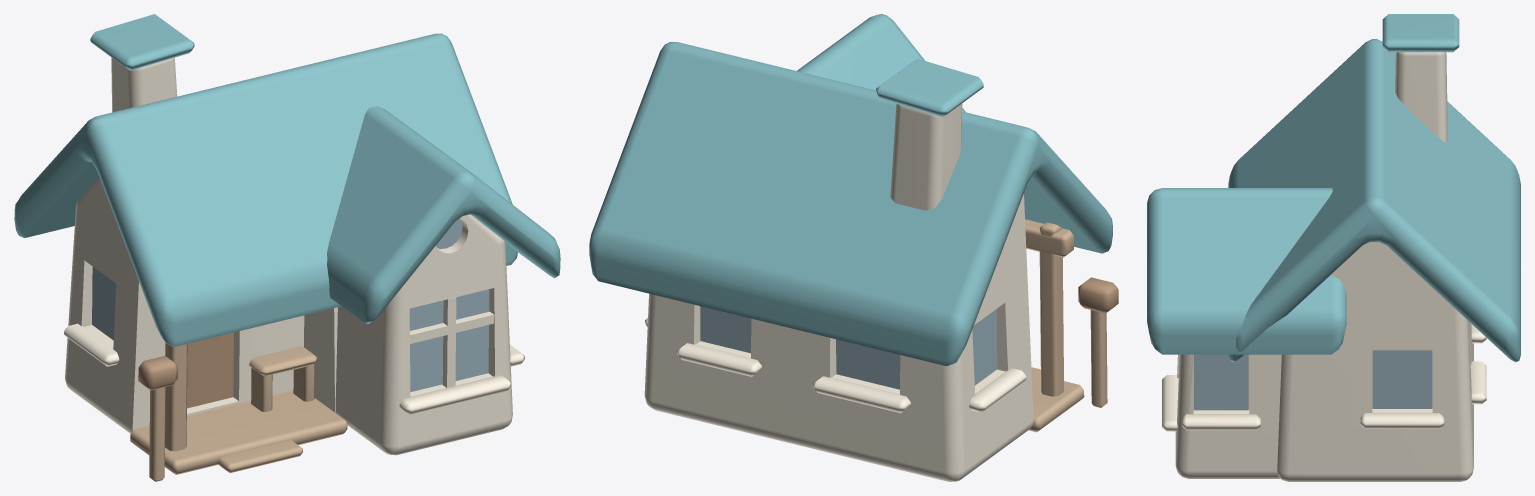
Rendered from chunky_porch.glb.
The picture shows the model from 3 angles, left to right: view 1: azimuth 30°, elevation 25°; view 2: azimuth 150°, elevation 25°; view 3: azimuth 270°, elevation 25°; orthographic projection. The views are drawn at different scales.
Parts seen in each view (by area): view 1: chunky_porch; view 2: chunky_porch; view 3: chunky_porch.
Boxes of the visible parts, <box> form: chunky_porch: <box>14,14,560,481</box>; chunky_porch: <box>589,14,1118,481</box>; chunky_porch: <box>1147,14,1520,481</box>.
Bounding box in the file's own units: 1.76 × 1.64 × 1.61.
